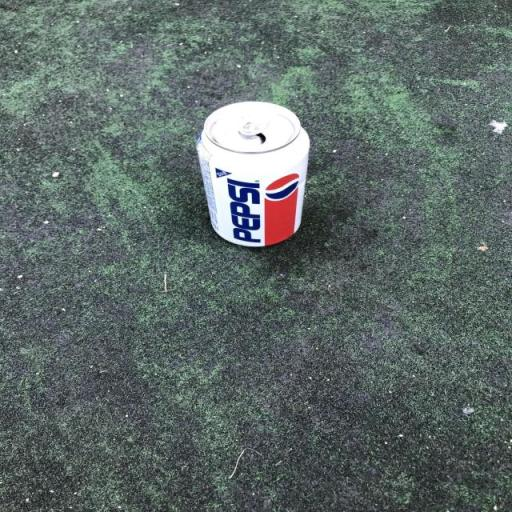metal: (176, 84, 327, 270)
